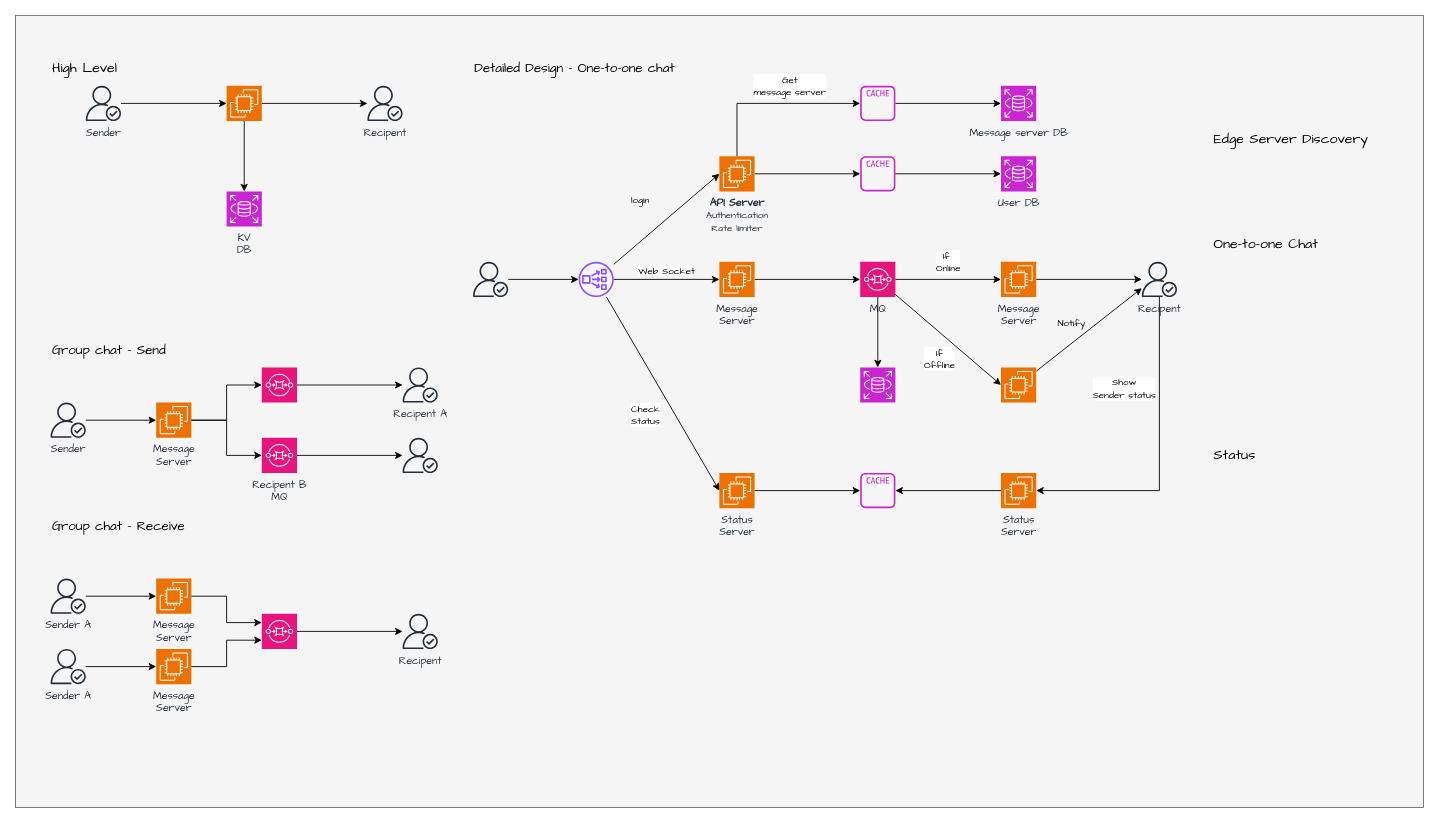
Some shapes in this 1439 by 823 pixel diagram are drawn without their labels. The box of each missing label's shape, as (x1, y1, x2, y2) in pixels:
App Server: (226, 85, 262, 121)
Load Balancer: (578, 261, 613, 297)
Message DB: (859, 367, 895, 403)
Message server list: (860, 85, 895, 121)
Notification Server: (1000, 367, 1036, 403)
Recipent A MQ: (261, 367, 297, 403)
Recipent B: (402, 437, 437, 473)
Recipent MQ: (261, 613, 297, 649)
Status Cache: (860, 473, 895, 508)
User Cache: (860, 156, 895, 191)
